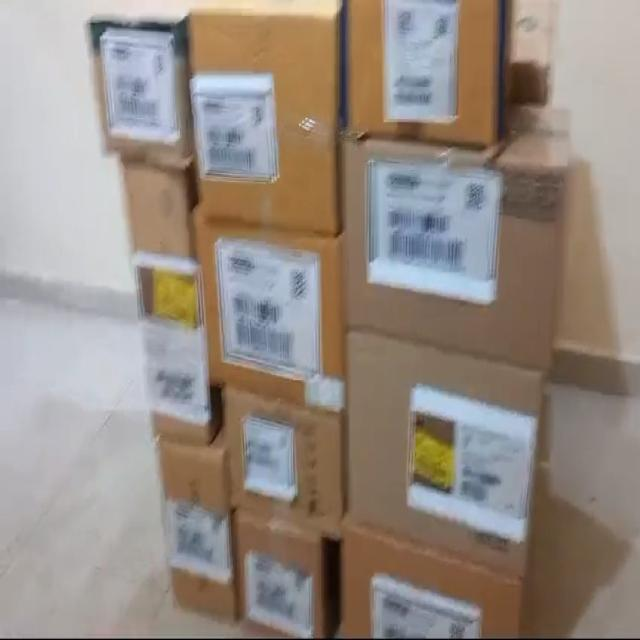BoxFace: (340, 136, 568, 372), (345, 321, 547, 572), (175, 3, 346, 233), (190, 210, 350, 418), (108, 159, 213, 456), (342, 0, 505, 159), (76, 7, 198, 177), (221, 383, 347, 539), (149, 424, 238, 628), (226, 504, 339, 640)
